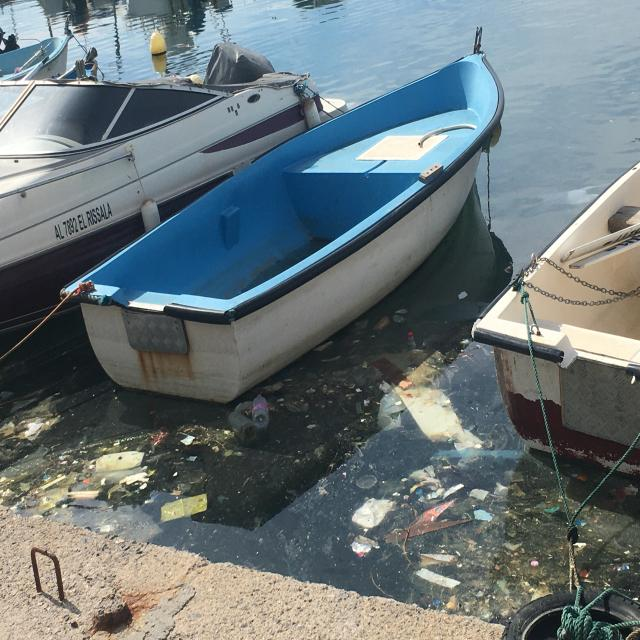Bottle cap: (530, 558, 540, 570)
Plastic bottle: (224, 409, 258, 446), (250, 392, 272, 430)
Plastic packaging: (159, 491, 210, 524), (94, 450, 145, 473)
Wood: (383, 517, 474, 546), (370, 356, 417, 393)
